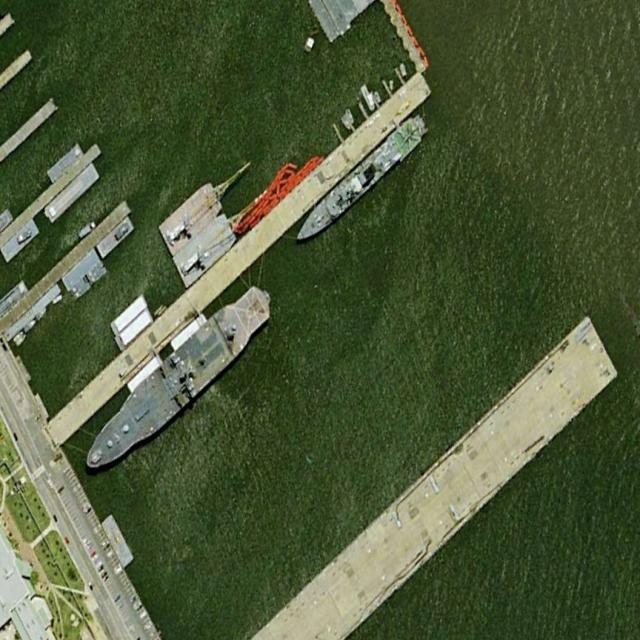Commander: (73, 273, 280, 488)
Other Warship: (291, 108, 432, 252)
